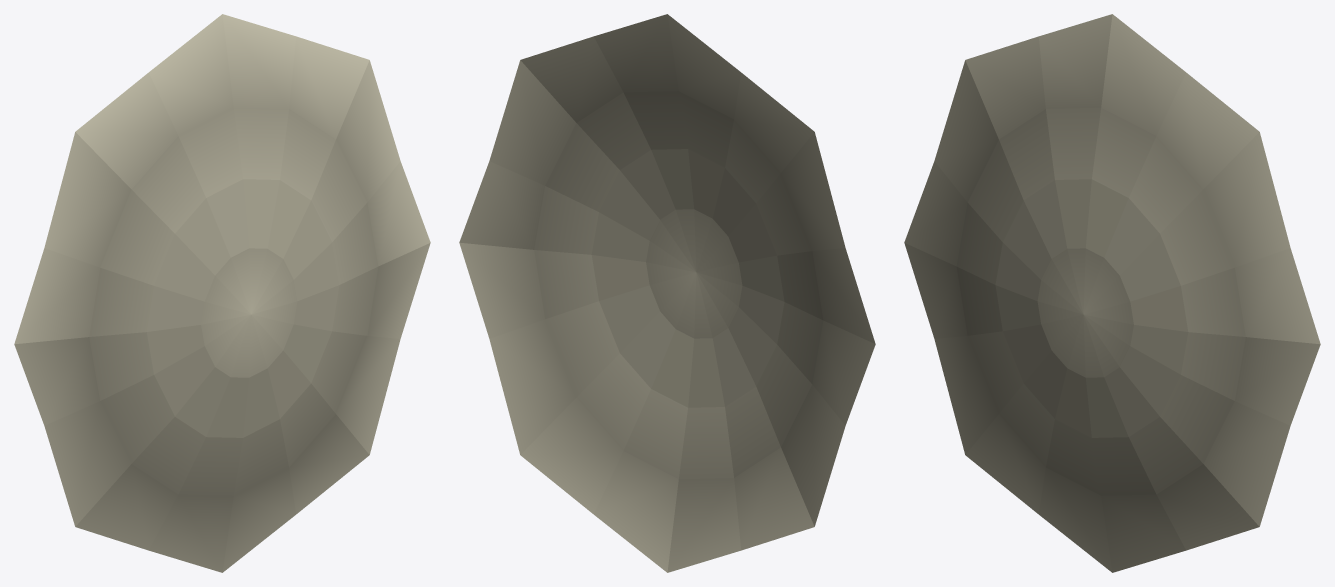
Rendered from SM_Vfx_WpnShieldAegis.fbx.
3 views of the same model, side by side, from view 1: azimuth 30°, elevation 25°; view 2: azimuth 150°, elevation 25°; view 3: azimuth 330°, elevation 25° (orthographic).
Visible parts, largest first — view 1: SM_Vfx_WpnShieldAegis; view 2: SM_Vfx_WpnShieldAegis; view 3: SM_Vfx_WpnShieldAegis.
Part boxes in pixels (box(x1,y1,x2,y2)): SM_Vfx_WpnShieldAegis: box(14, 14, 430, 572); SM_Vfx_WpnShieldAegis: box(459, 14, 875, 572); SM_Vfx_WpnShieldAegis: box(904, 14, 1320, 572).
Bounding box in the file's own units: 1.75 × 2.24 × 0.2099.
